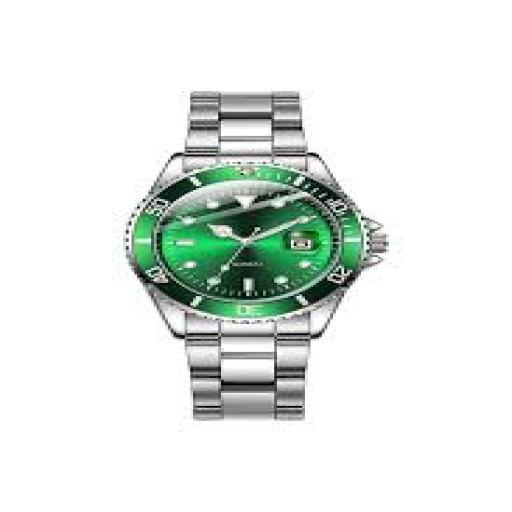KolSaati: (101, 64, 407, 446)
